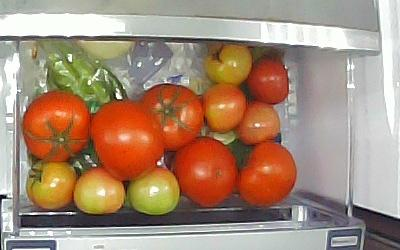tomato: (90, 99, 164, 181), (22, 91, 90, 163), (171, 137, 238, 208), (139, 84, 205, 153), (237, 141, 297, 207), (127, 168, 181, 215), (72, 167, 126, 214), (26, 161, 77, 210), (201, 83, 247, 133), (202, 44, 252, 87), (246, 55, 289, 105), (235, 100, 281, 145)
